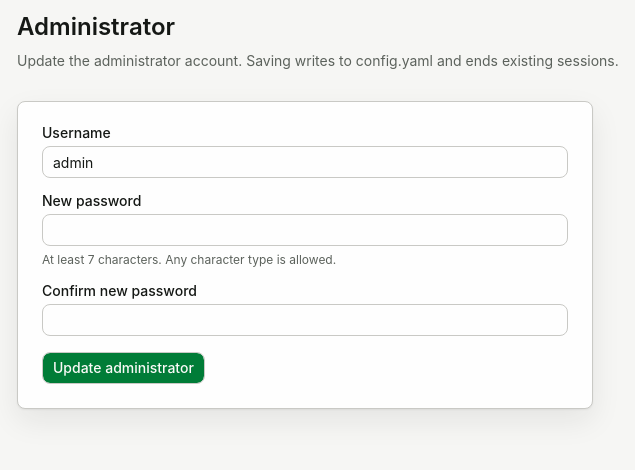
Scenario: account updates report failure and retain the entered credentials
Expected: the field labelled "Username" holds "admin", [42,146,568,178]
Type "new-password" into the password field labelled "New password". click: (305, 230)
box: [42,214,568,246]
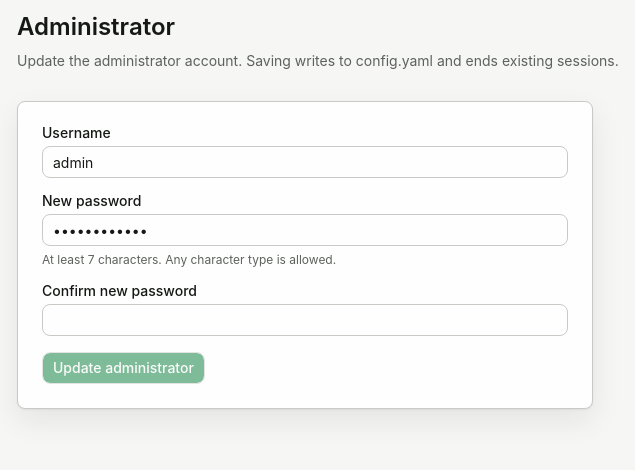
Type "new-password" into the password field labelled "Confirm new password". click: (305, 320)
box: [42,304,568,336]
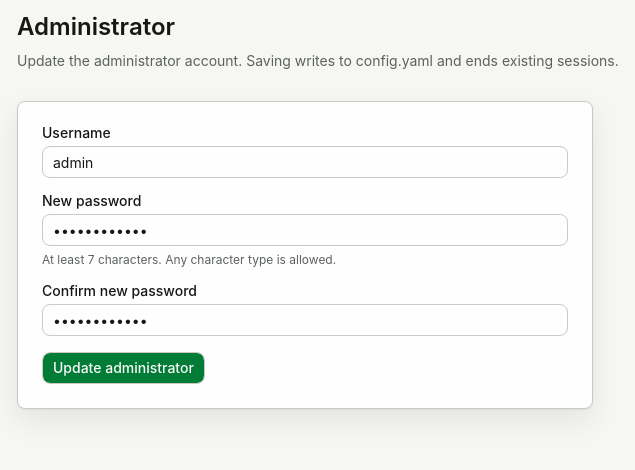
Click the button "Update administrator". click: (123, 368)
box: [42,352,205,384]
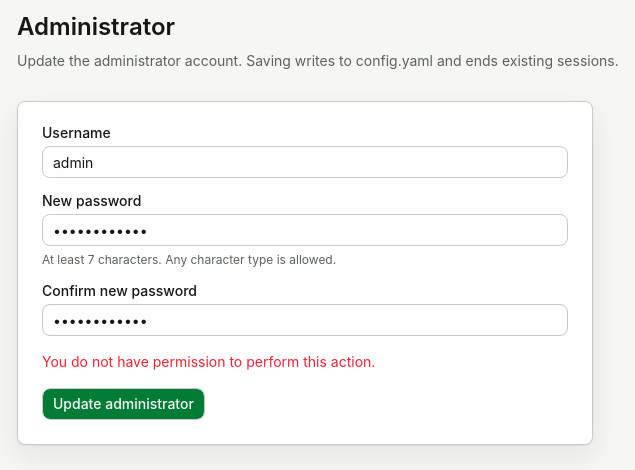
Expected: the message shows "You do not have permission", [42,353,375,370]
